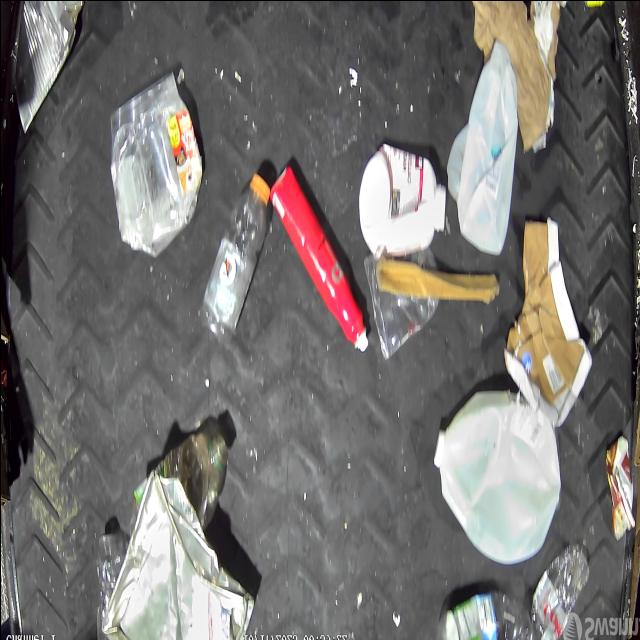can: (12, 0, 83, 128)
milk_jug: (434, 390, 562, 566), (448, 43, 520, 256)
non_white_jug: (358, 142, 448, 258)
plastic_bottle: (200, 174, 270, 340), (528, 539, 590, 640), (441, 590, 537, 640)
